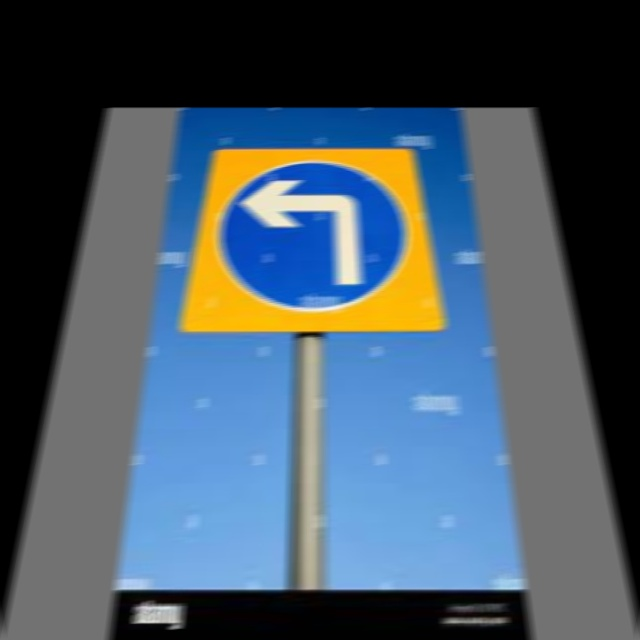Compulsory_Turn_Left_Ahead: (208, 157, 424, 319)
